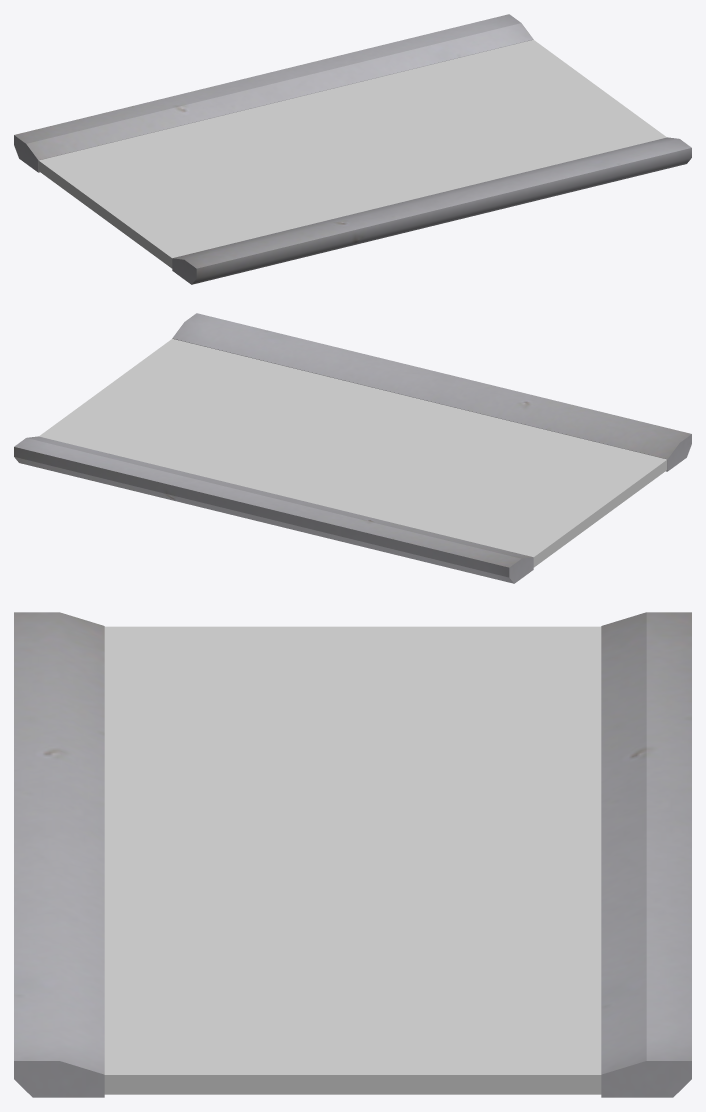
The model's file is bob_roof_long_plain.FBX.
3 renders of one model, top to bottom at view 1: azimuth 30°, elevation 25°; view 2: azimuth 150°, elevation 25°; view 3: azimuth 270°, elevation 25°, orthographic. The views are drawn at different scales.
Visible parts, largest first — view 1: roof_long_plain; view 2: roof_long_plain; view 3: roof_long_plain.
Boxes of the visible parts, bbox=[...] form: roof_long_plain: bbox=[14, 14, 691, 284]; roof_long_plain: bbox=[14, 313, 691, 583]; roof_long_plain: bbox=[14, 612, 691, 1097].
Size of the model in its own units: 988 by 37.99 by 631.
Materials: 1 (1 with a texture image).
